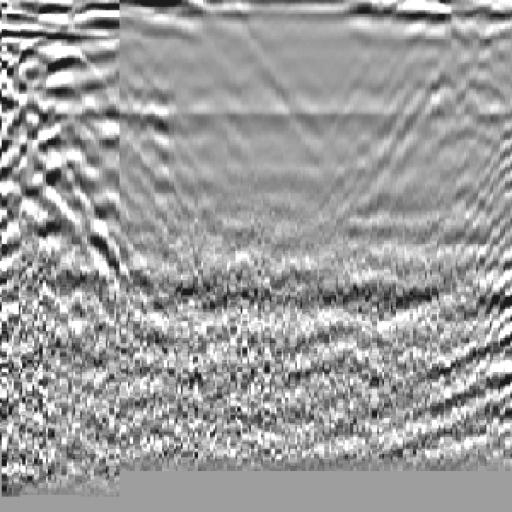non-metallic: (1, 34, 164, 251)
